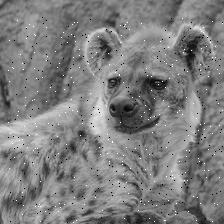hyena: (8, 17, 224, 224)
